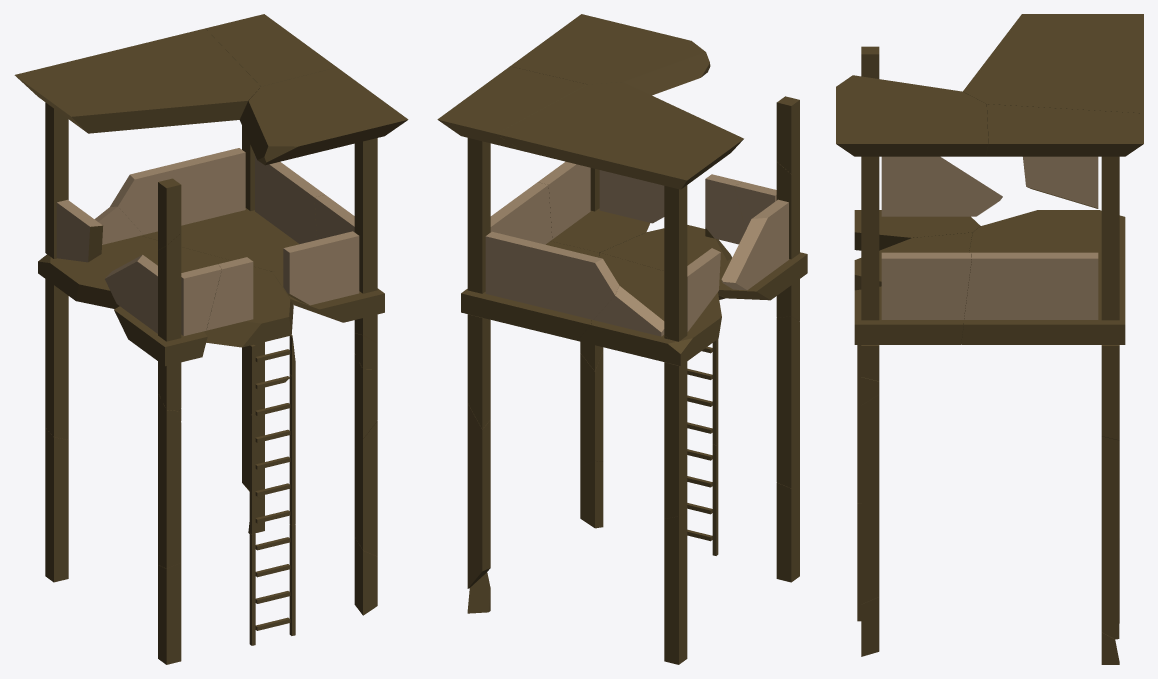
File: SM_UpPost2.obj
3 views of the same model, side by side, from view 1: azimuth 30°, elevation 25°; view 2: azimuth 150°, elevation 25°; view 3: azimuth 270°, elevation 25° (orthographic). The views are drawn at different scales.
Visible parts, largest first — view 1: up_post_2; view 2: up_post_2; view 3: up_post_2.
Part boxes in pixels (x1,y1,x2,y2): up_post_2: (14,14,408,664); up_post_2: (437,14,807,664); up_post_2: (836,14,1143,664).
Bounding box in the file's own units: 3.41 × 6.49 × 3.41.
